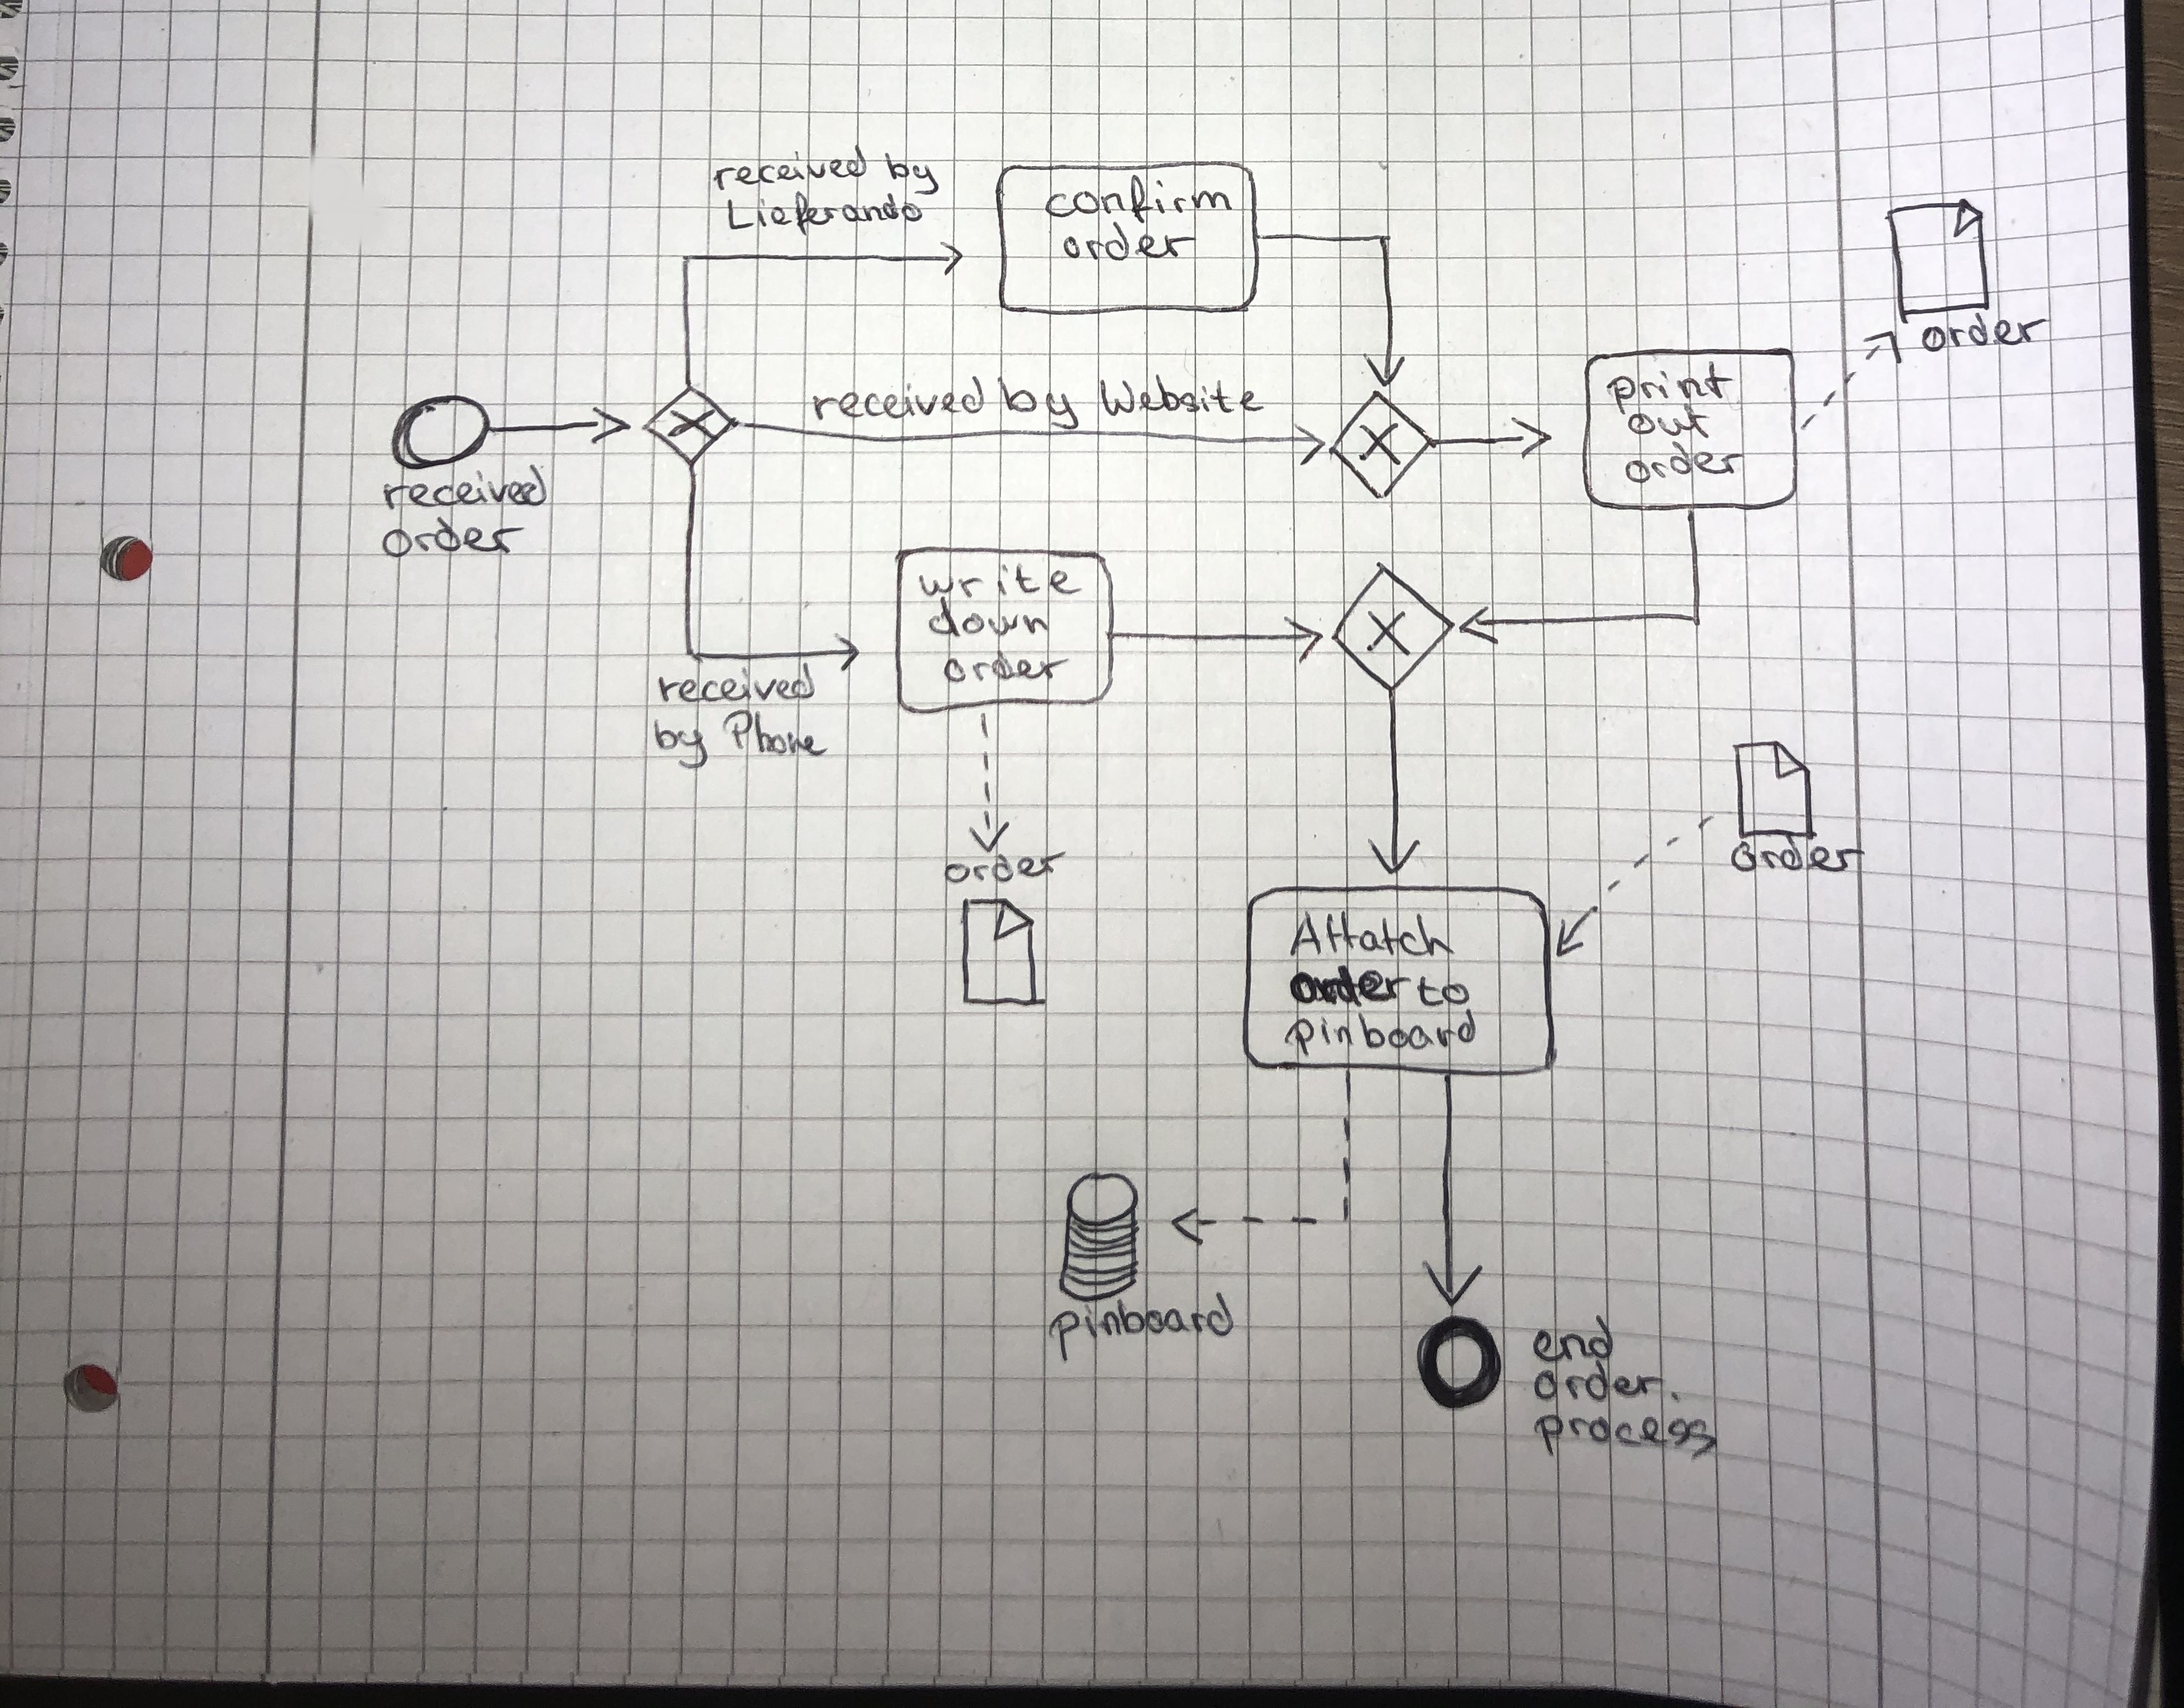Affatch: (1289, 905, 1461, 962)
Lieferando: (723, 188, 932, 237)
Phone: (723, 707, 830, 764)
Website: (1097, 372, 1267, 423)
by: (993, 370, 1081, 431), (651, 716, 713, 771), (883, 145, 941, 195)
confirm: (1041, 174, 1237, 225)
down: (925, 595, 1055, 641)
end: (1528, 1313, 1617, 1366)
order: (381, 514, 530, 562), (1528, 1359, 1668, 1409), (1725, 833, 1868, 877), (1287, 962, 1413, 1012), (1915, 310, 2047, 356), (1058, 221, 1198, 264), (1620, 441, 1744, 487), (941, 847, 1069, 888), (940, 648, 1069, 686)
out: (1626, 399, 1714, 441)
pinboard: (1044, 1290, 1239, 1364), (1282, 1006, 1480, 1058)
print: (1603, 360, 1737, 413)
process: (1532, 1410, 1721, 1463)
received: (808, 376, 987, 427), (709, 142, 874, 195), (378, 462, 551, 512), (656, 661, 821, 707)
to: (1413, 973, 1473, 1010)
write: (915, 562, 1085, 602)
